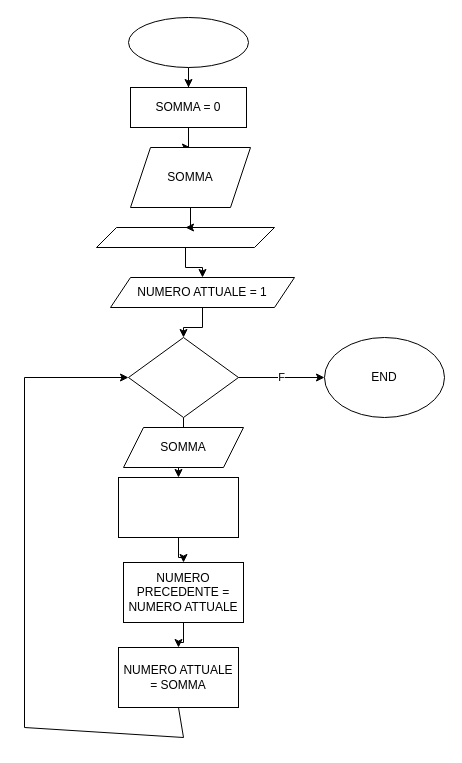
Image size: 462x763. Some labels were removed from this diagram. Each missing label, with the centre of its shape:
"NUMERO PRECEDENTE = 0" belongs at pixel 185 237.
"SOMMA <21" belongs at pixel 183 377.
"SOMMA = NUMERO PRECEDENTE + NUMERO ATTUALE" belongs at pixel 178 507.
"START" belongs at pixel 188 42.
